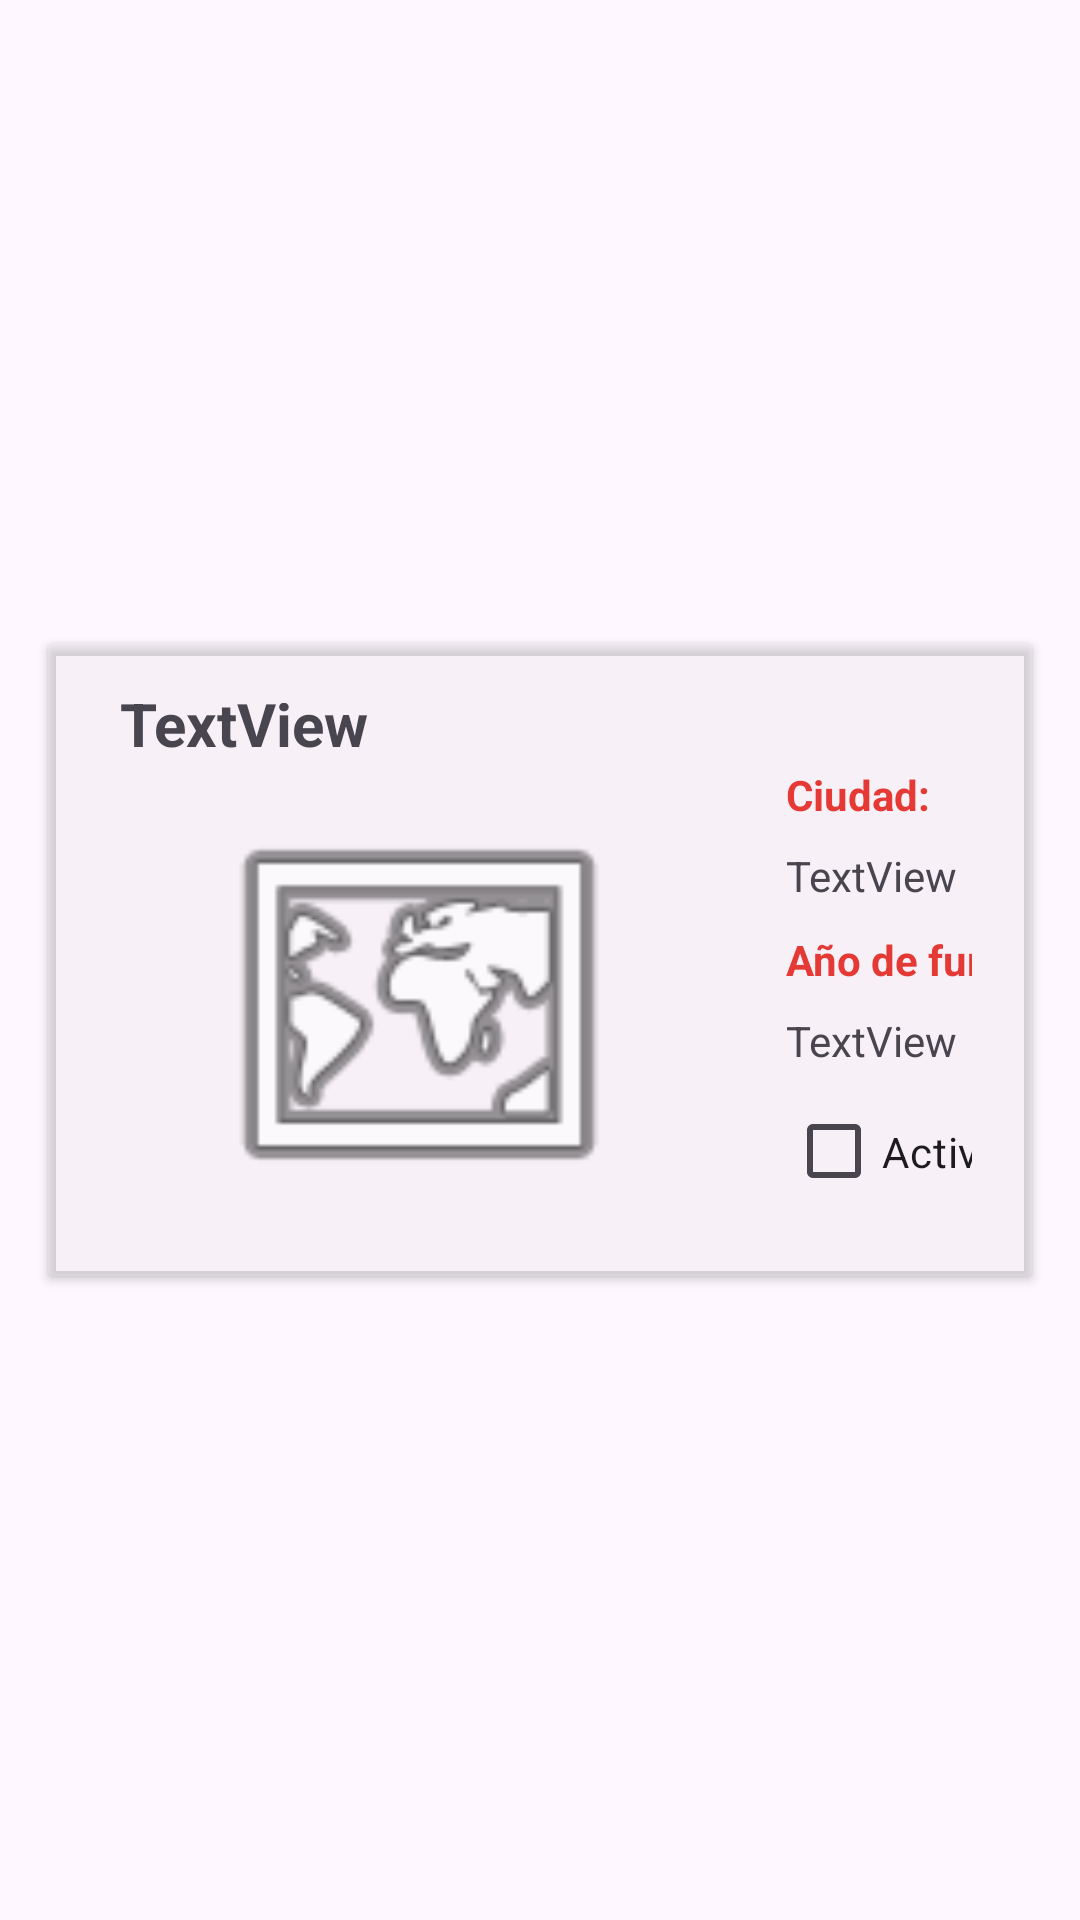

Icon bounding boxes for this 1080 × 1920 phone screenshot, format (x1, y1, x2, y2):
mapmode: (242, 849, 596, 1160)
